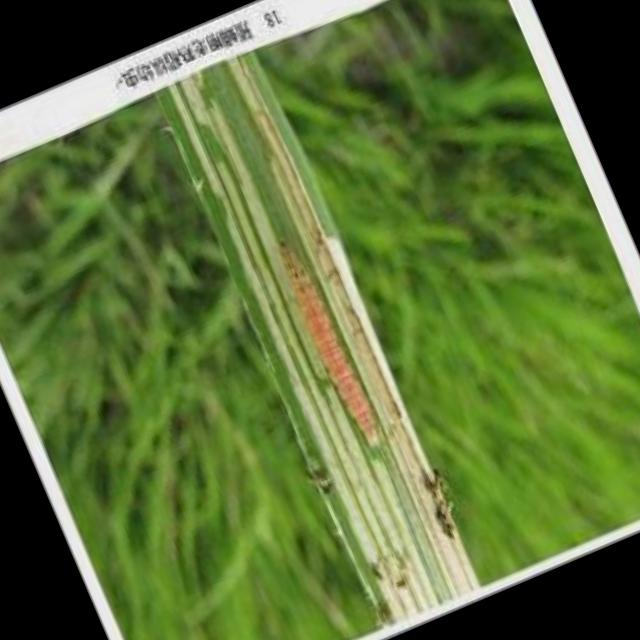leaf-folder: (253, 210, 407, 468)
